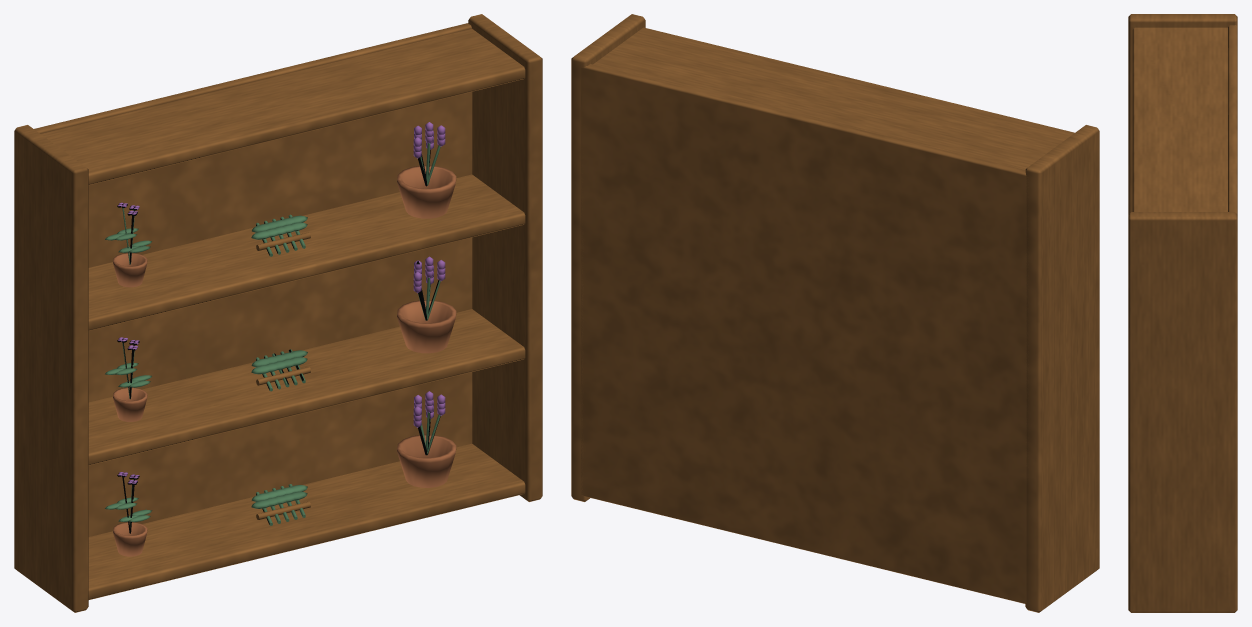
File: Furn_HerbShelf.fbx
3 views of the same model, side by side, from view 1: azimuth 30°, elevation 25°; view 2: azimuth 150°, elevation 25°; view 3: azimuth 270°, elevation 25° (orthographic). The views are drawn at different scales.
Parts seen in each view (by area): view 1: Furn_HerbShelf_Mesh; view 2: Furn_HerbShelf_Mesh; view 3: Furn_HerbShelf_Mesh.
Part boxes in pixels (bbox=[...]): Furn_HerbShelf_Mesh: bbox=[14, 14, 542, 612]; Furn_HerbShelf_Mesh: bbox=[571, 14, 1099, 612]; Furn_HerbShelf_Mesh: bbox=[1128, 14, 1237, 612].
Bounding box in the file's own units: 2 × 1.8 × 0.45.
4 materials, 4 textured.
